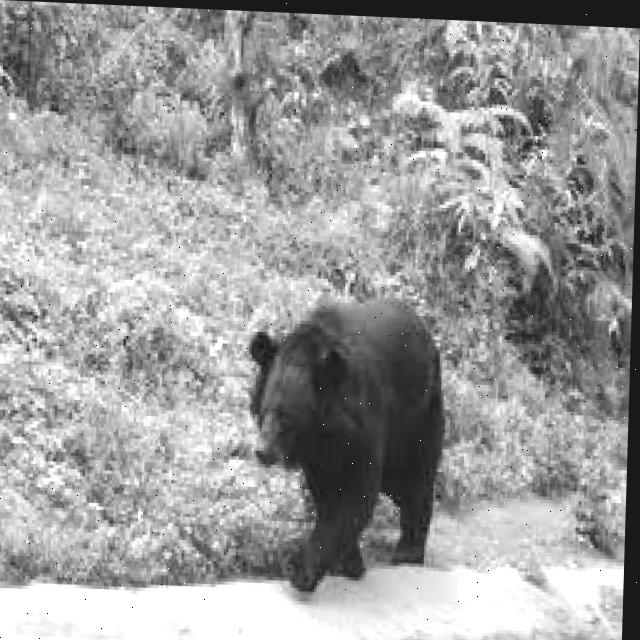Bear: (242, 296, 447, 601)
